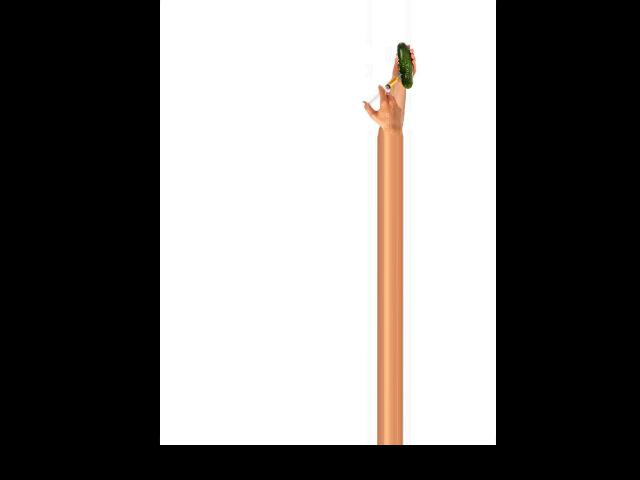cucumber: (397, 41, 412, 88)
